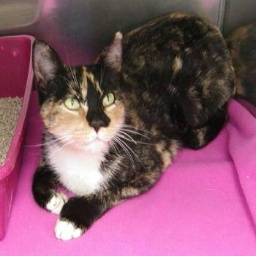cat: (25, 8, 236, 240)
